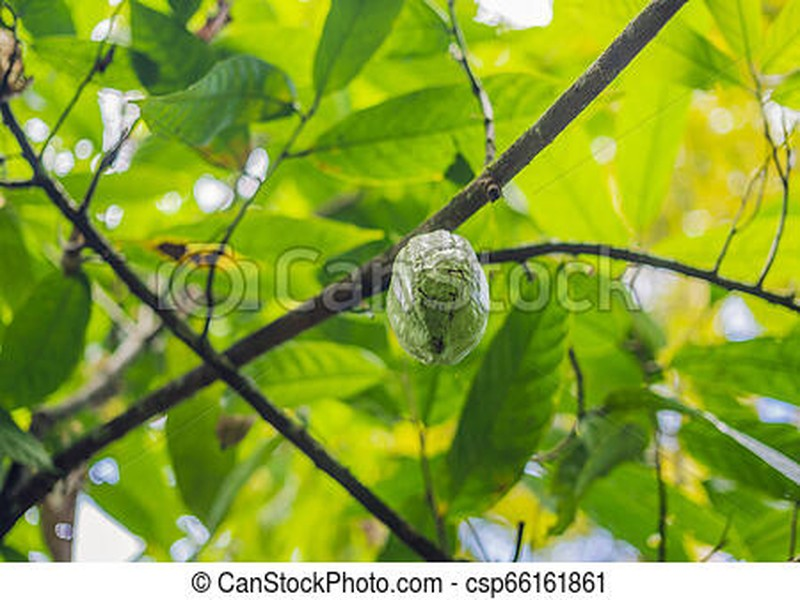Cacaopod: (385, 232, 491, 367)
